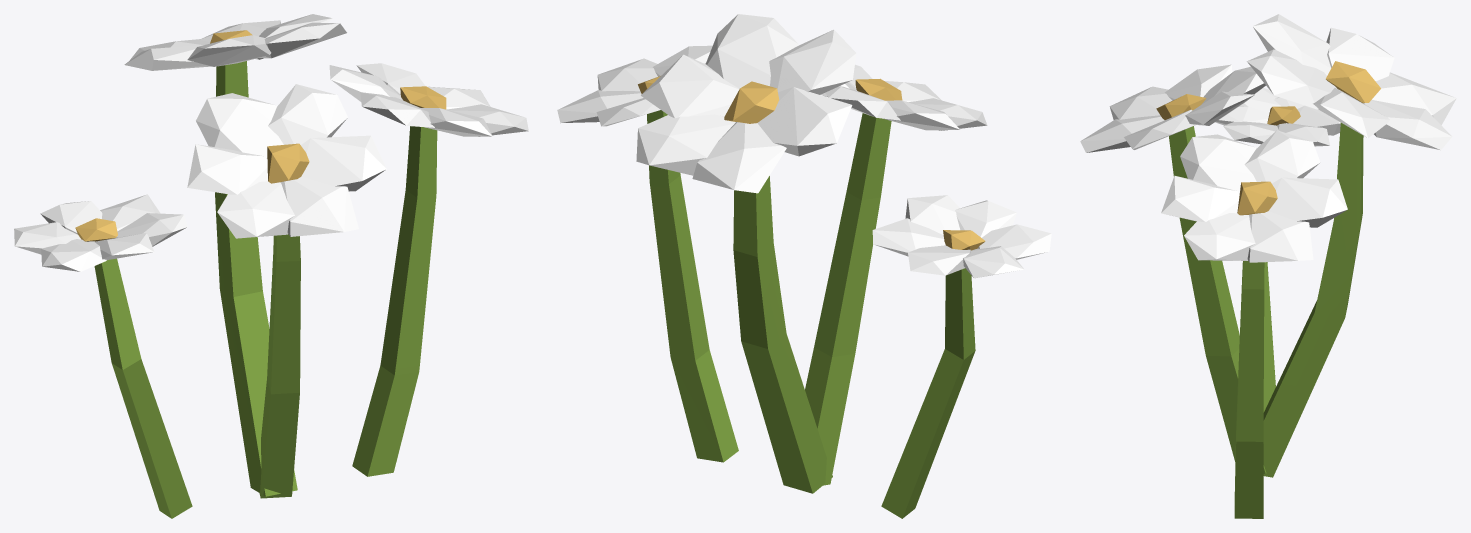
Rendered from Flower_07.fbx.
3 views of the same model, side by side, from view 1: azimuth 30°, elevation 25°; view 2: azimuth 150°, elevation 25°; view 3: azimuth 270°, elevation 25° (orthographic). The views are drawn at different scales.
Parts seen in each view (by area): view 1: Flower_07; view 2: Flower_07; view 3: Flower_07.
Part boxes in pixels (box(x1,y1,x2,y2)): Flower_07: box(14, 14, 528, 518); Flower_07: box(557, 14, 1051, 518); Flower_07: box(1080, 14, 1456, 518).
Bounding box in the file's own units: 27.92 × 26 × 20.41.
